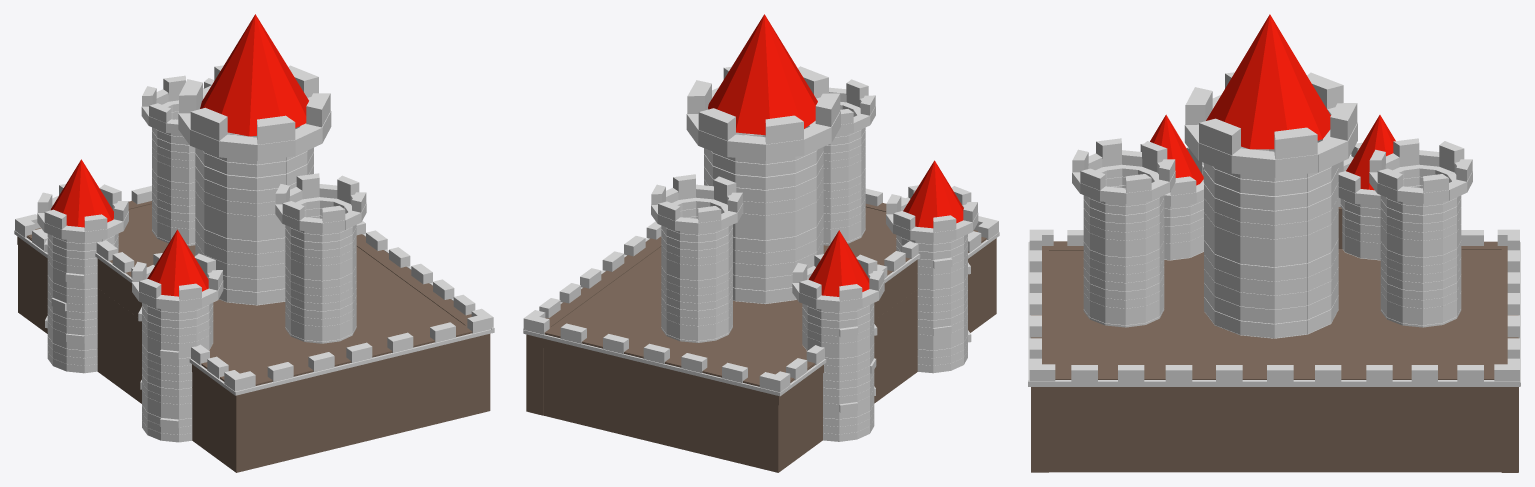
The model's file is Castle.fbx.
3 views of the same model, side by side, from view 1: azimuth 30°, elevation 25°; view 2: azimuth 150°, elevation 25°; view 3: azimuth 270°, elevation 25° (orthographic). The views are drawn at different scales.
Visible parts, largest first — view 1: Cube.212, Cube.213, Cube.209, Cone.002, Cube.003, Cube.204, Cube.201, Cube.210, Cube.187, Cube.205, Plane.011, Plane.001 (+39 smaller); view 2: Cube.212, Cube.201, Cube.204, Cone.002, Cube.003, Cube.213, Cube.207, Plane.004, Cube.209, Plane.014, Plane.006, Cube.205 (+40 smaller); view 3: Cube.212, Cube.209, Cube.201, Cone.002, Cube.213, Cube.210, Cube.207, Plane.004, Plane.002, Plane.003, Cube.166, Plane.001 (+45 smaller).
Part boxes in pixels (x1,y1,x2,y2): Cube.212: [195, 65, 331, 305]; Cube.213: [178, 79, 322, 203]; Cube.209: [285, 173, 366, 343]; Cone.002: [200, 14, 308, 136]; Cube.003: [138, 253, 223, 442]; Cube.204: [44, 184, 128, 373]; Cube.201: [152, 75, 214, 245]; Cube.210: [275, 184, 361, 258]; Cube.187: [132, 261, 218, 336]; Cube.205: [37, 192, 123, 266]; Plane.011: [192, 333, 308, 404]; Plane.001: [357, 296, 464, 337]; Cube.212: [686, 66, 823, 304]; Cube.201: [651, 174, 732, 342]; Cube.204: [792, 254, 877, 441]; Cone.002: [708, 14, 817, 135]; Cube.003: [886, 185, 971, 373]; Cube.213: [735, 66, 840, 202]; Cube.207: [661, 176, 743, 265]; Plane.004: [568, 280, 661, 331]; Cube.209: [823, 138, 865, 245]; Plane.014: [719, 317, 823, 387]; Plane.006: [611, 314, 742, 384]; Cube.205: [802, 254, 884, 343]; Cube.212: [1198, 103, 1357, 338]; Cube.209: [1080, 159, 1175, 327]; Cube.201: [1377, 159, 1472, 327]; Cone.002: [1206, 14, 1330, 149]; Cube.213: [1184, 72, 1343, 267]; Cube.210: [1072, 138, 1167, 257]; Cube.207: [1369, 138, 1464, 257]; Plane.004: [1356, 333, 1464, 396]; Plane.002: [1139, 333, 1247, 396]; Plane.003: [1248, 333, 1356, 396]; Cube.166: [1286, 449, 1501, 472]; Plane.001: [1049, 333, 1139, 396].
Bounding box in the file's own units: 6404 × 7285 × 8350.
